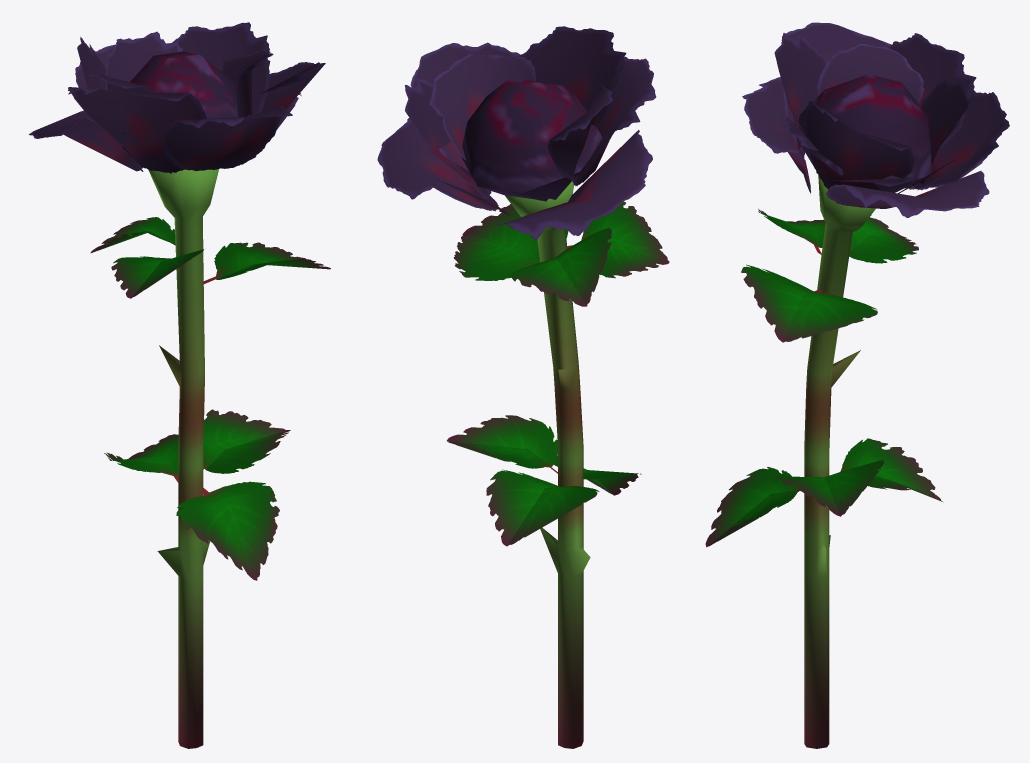
Rendered from DEMOFlowerpack_Rose_Black_Open.fbx.
The picture shows the model from 3 angles, left to right: view 1: azimuth 30°, elevation 25°; view 2: azimuth 150°, elevation 25°; view 3: azimuth 270°, elevation 25°; orthographic projection. The views are drawn at different scales.
Visible parts, largest first — view 1: Rose_Black_Open; view 2: Rose_Black_Open; view 3: Rose_Black_Open.
Part boxes in pixels (x1=…): Rose_Black_Open: x1=29, y1=22, x2=330, y2=748; Rose_Black_Open: x1=377, y1=26, x2=669, y2=748; Rose_Black_Open: x1=705, y1=22, x2=1009, y2=748.
Size of the model in its own units: 50.21 by 50.94 by 127.
1 material, 1 textured.
